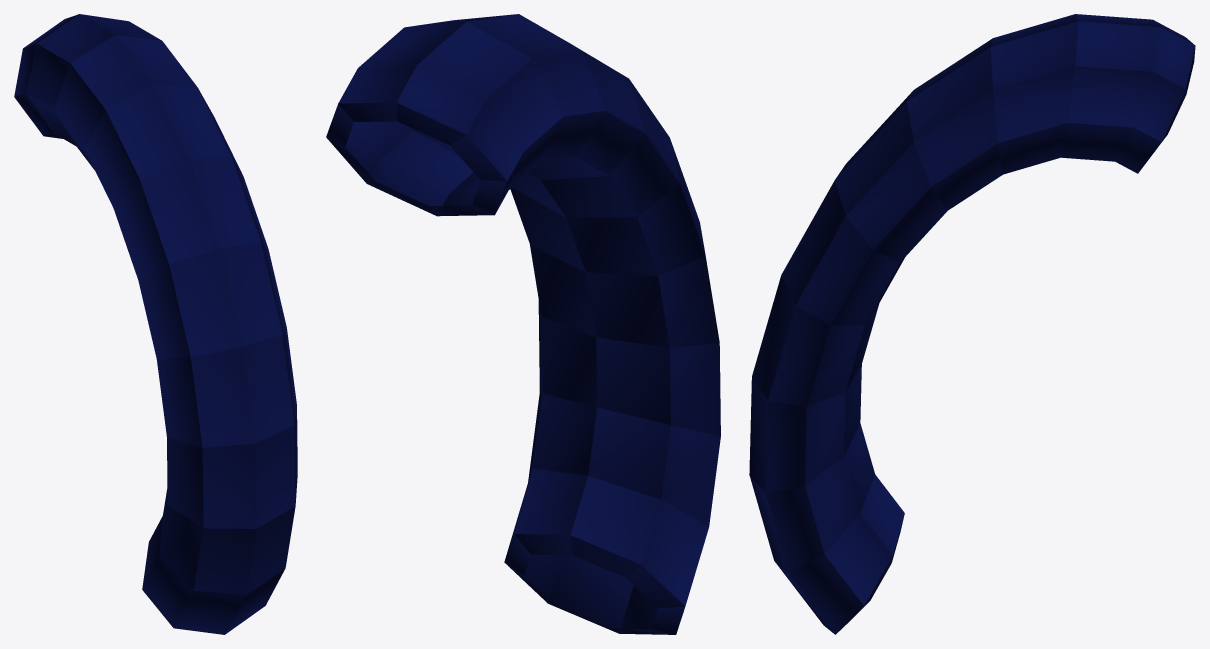
The model's file is MeshKettleLid_1_0_GeomSubset_1.obj.
3 renders of one model, left to right at view 1: azimuth 30°, elevation 25°; view 2: azimuth 150°, elevation 25°; view 3: azimuth 270°, elevation 25°, orthographic. The views are drawn at different scales.
Visible parts, largest first — view 1: MeshKettleLid_1_0_GeomSubset_1; view 2: MeshKettleLid_1_0_GeomSubset_1; view 3: MeshKettleLid_1_0_GeomSubset_1.
Part boxes in pixels (box(x1,y1,x2,y2)): MeshKettleLid_1_0_GeomSubset_1: box(14, 14, 297, 634); MeshKettleLid_1_0_GeomSubset_1: box(326, 14, 720, 634); MeshKettleLid_1_0_GeomSubset_1: box(749, 14, 1195, 634).
Size of the model in its own units: 0.00673 by 0.0257 by 0.0172.
